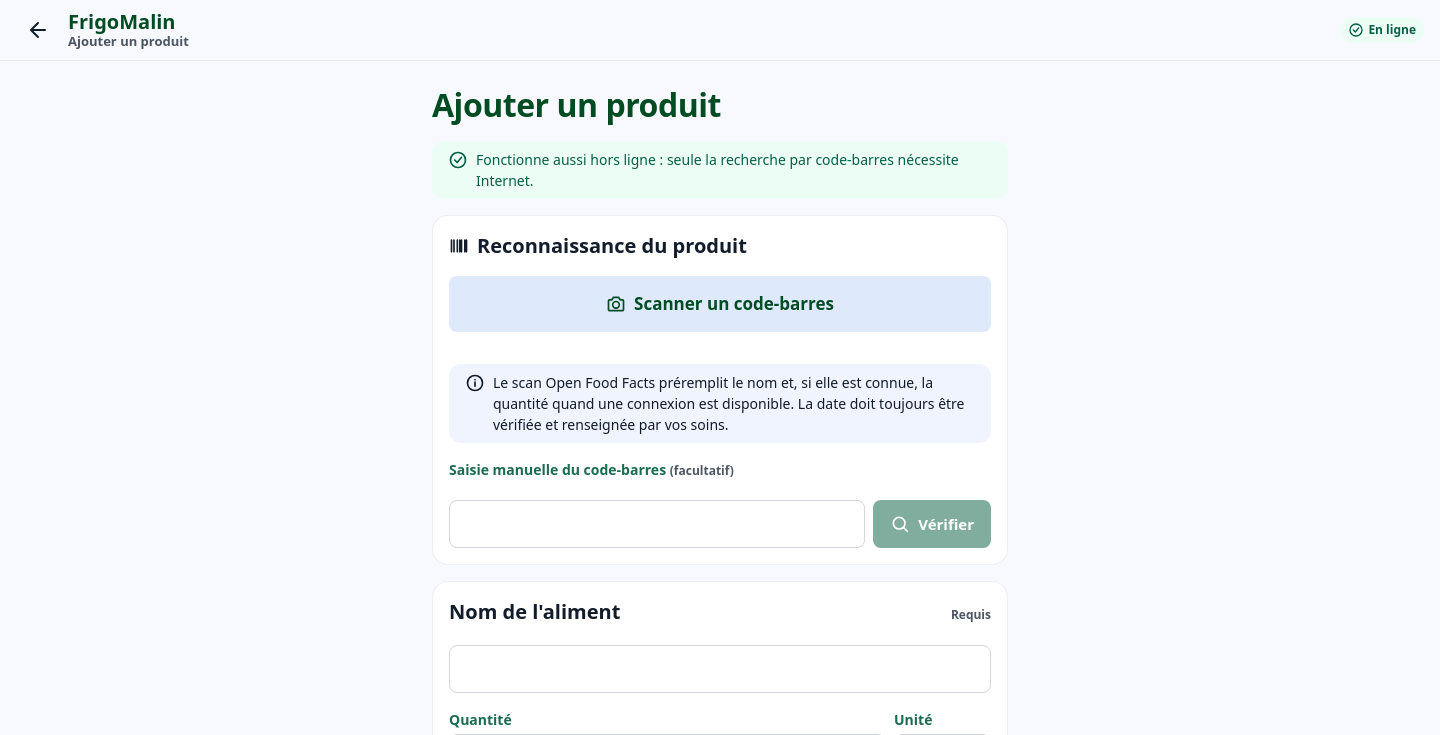
Test: affiche un message adapté au statut timeout et laisse le nom vide
Type "3017620422003" into the field labelled "Saisie manuelle du code-barres (facultatif)" at (657, 524), box [449,500,865,548]
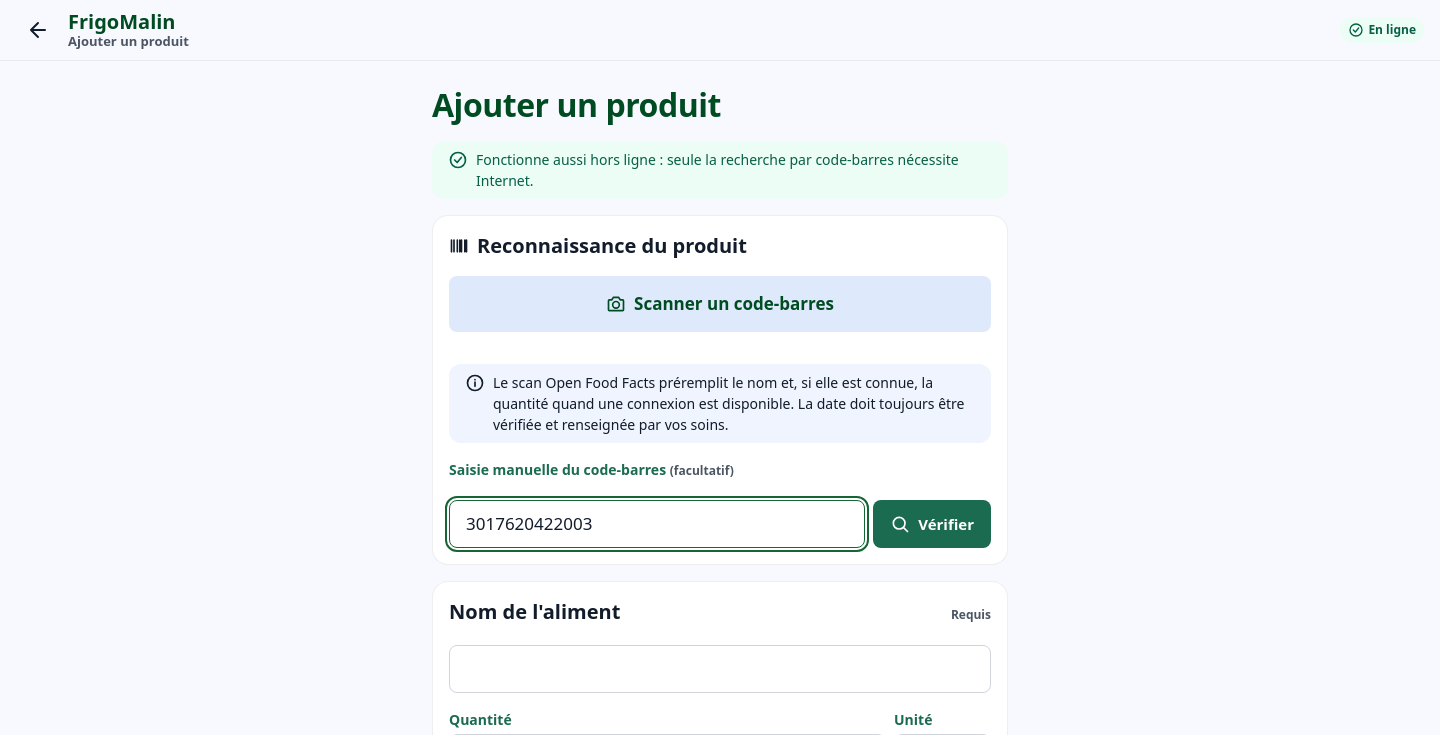
Click the button "Vérifier" at (932, 524), box [873,500,991,548]
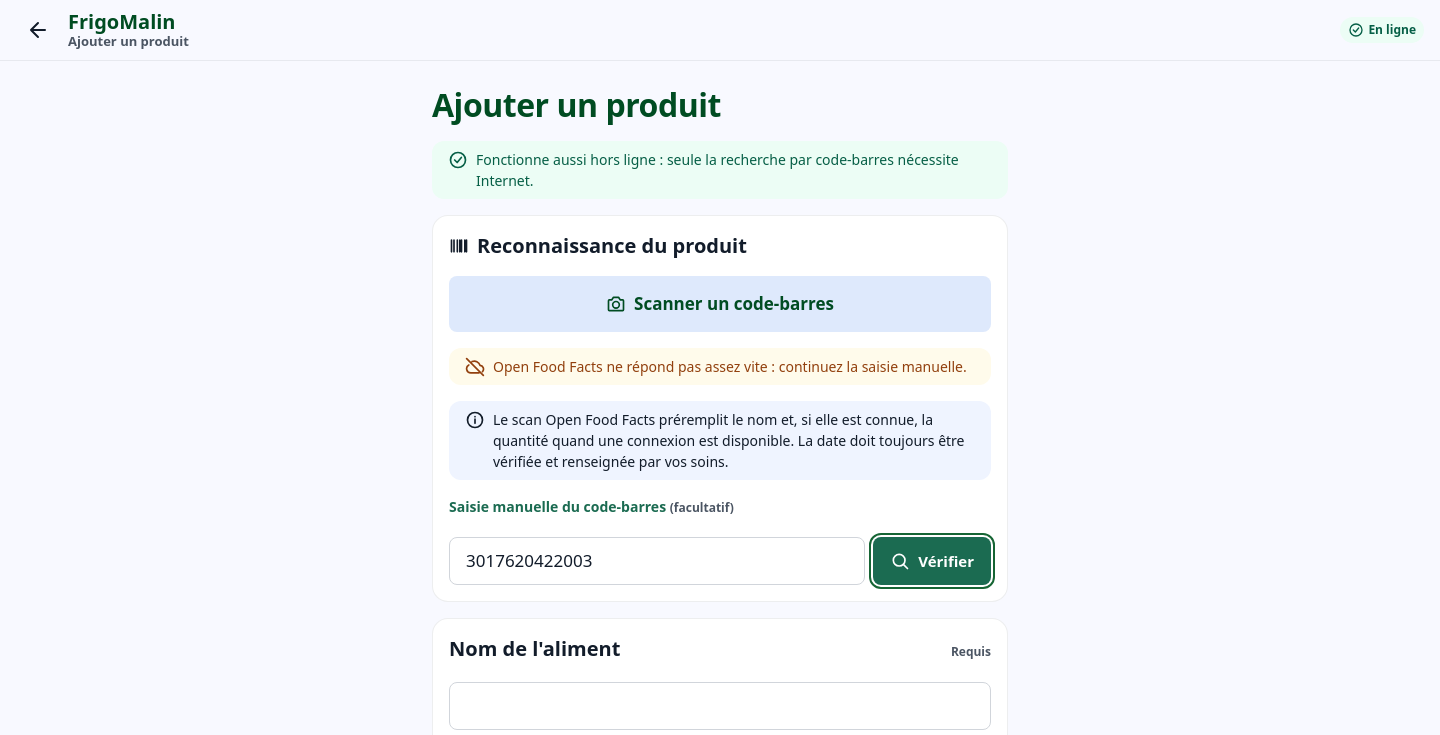
expect the field labelled "Nom de l'aliment Requis" is empty: met, box [449,682,991,730]
expect the text "Open Food Facts ne répond pas assez vite : continuez la saisie manuelle." is shown: met, box [493,356,967,377]
